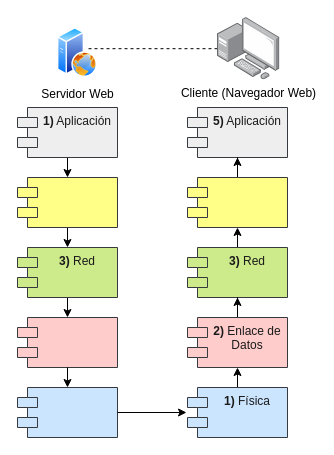
Image size: 334x455. Some labels were removed from this diagram. The centre of each missing label's shape, as x and y in pixels:
"2) Transporte" belongs at [67,202].
"4) Enlace de Datos" belongs at [67,342].
"4) Transporte" belongs at [237,202].
"5) Física" belongs at [67,412].
